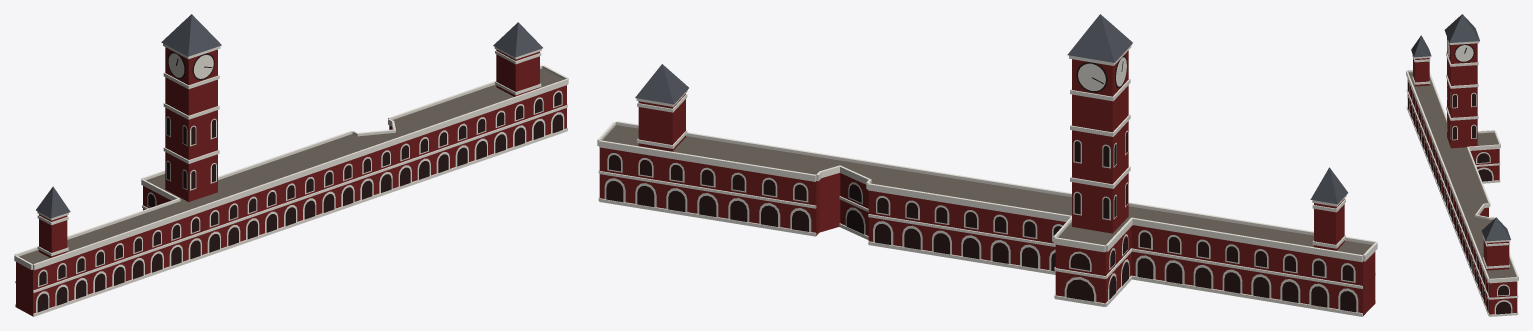
The model's file is heritage.glb.
3 renders of one model, left to right at view 1: azimuth 30°, elevation 25°; view 2: azimuth 150°, elevation 25°; view 3: azimuth 270°, elevation 25°, orthographic. The views are drawn at different scales.
Visible parts, largest first — view 1: heritage_wall, heritage_trim, heritage_dark, heritage_roof, heritage_slate; view 2: heritage_wall, heritage_trim, heritage_dark, heritage_roof, heritage_slate; view 3: heritage_wall, heritage_trim, heritage_roof, heritage_dark, heritage_slate.
Boxes of the visible parts, x1,y1,x2,y2 form: heritage_wall: [16, 47, 566, 316]; heritage_trim: [14, 43, 568, 316]; heritage_dark: [37, 51, 562, 312]; heritage_roof: [19, 68, 563, 264]; heritage_slate: [36, 14, 542, 218]; heritage_wall: [599, 50, 1375, 315]; heritage_trim: [597, 45, 1377, 316]; heritage_dark: [606, 55, 1356, 312]; heritage_roof: [602, 125, 1372, 254]; heritage_slate: [635, 14, 1348, 204]; heritage_wall: [1407, 37, 1517, 314]; heritage_trim: [1406, 39, 1518, 316]; heritage_roof: [1408, 72, 1516, 278]; heritage_dark: [1408, 39, 1511, 314]; heritage_slate: [1411, 14, 1510, 241].
Size of the model in its own units: 113 by 41 by 25.59.
